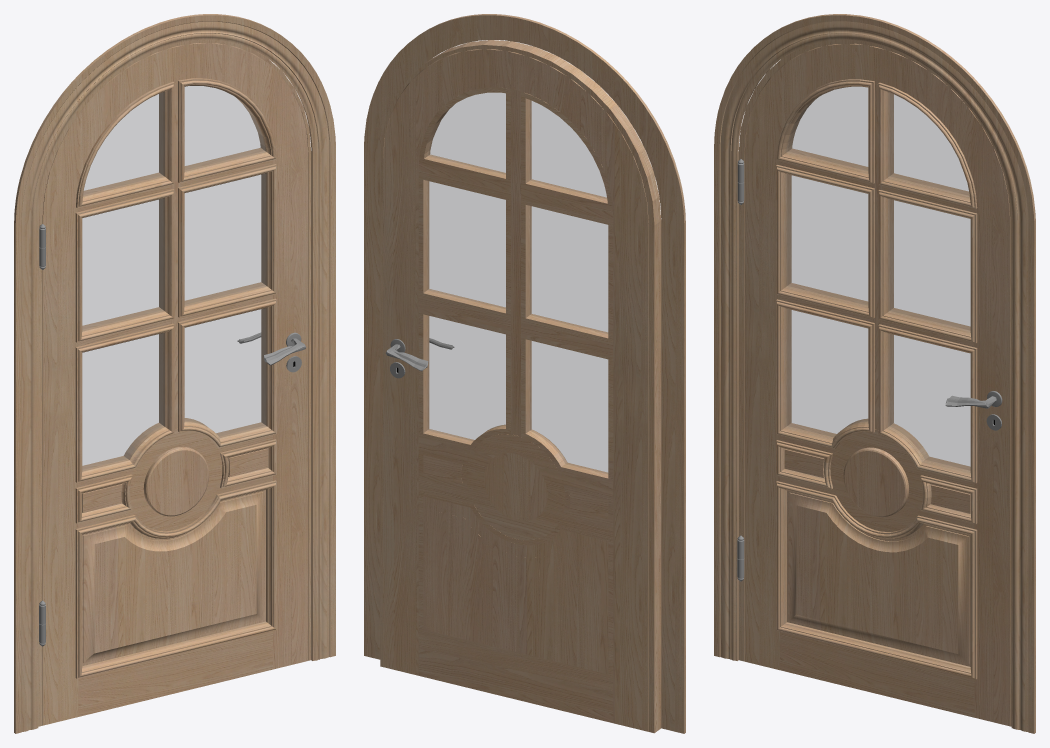
The model's file is door27.FBX.
3 views of the same model, side by side, from view 1: azimuth 30°, elevation 25°; view 2: azimuth 150°, elevation 25°; view 3: azimuth 330°, elevation 25° (orthographic).
Visible parts, largest first — view 1: doors, frame; view 2: doors, frame; view 3: doors, frame.
Part boxes in pixels (bbox=[...]): doors: bbox=[39, 43, 308, 725]; frame: bbox=[14, 14, 335, 733]; doors: bbox=[383, 49, 648, 731]; frame: bbox=[364, 14, 685, 733]; doors: bbox=[737, 43, 1010, 726]; frame: bbox=[714, 14, 1035, 733].
Size of the model in its own units: 109 by 219 by 19.21.
